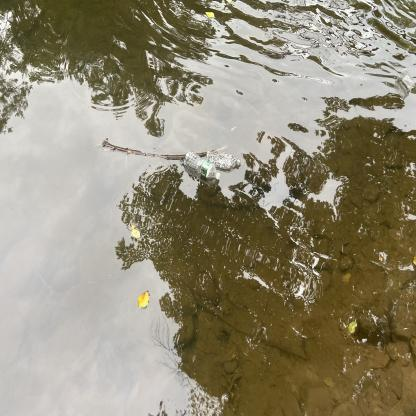trash: (180, 148, 222, 187), (203, 147, 243, 174)
